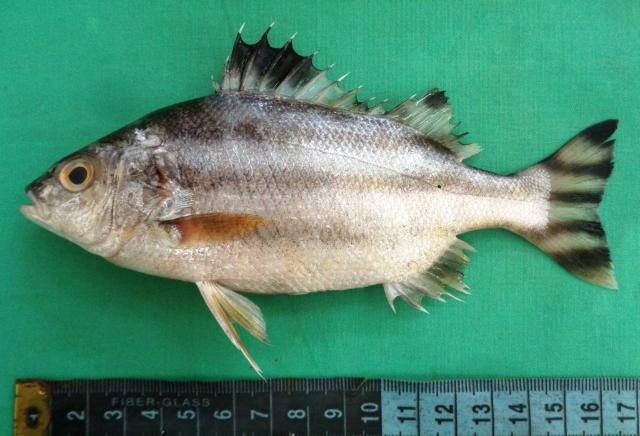Mulut: (11, 176, 57, 246)
Sirip Anal: (386, 230, 479, 320)
Sirip Dada: (159, 198, 277, 251)
Sirip Ekor: (533, 105, 627, 301)
Sirip Perut: (191, 275, 279, 386)
Sirip Punggung: (213, 15, 492, 167)
